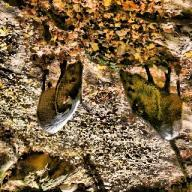boar: (117, 65, 183, 141), (36, 60, 84, 135)
